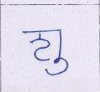u_matra: (47, 58, 70, 76)
